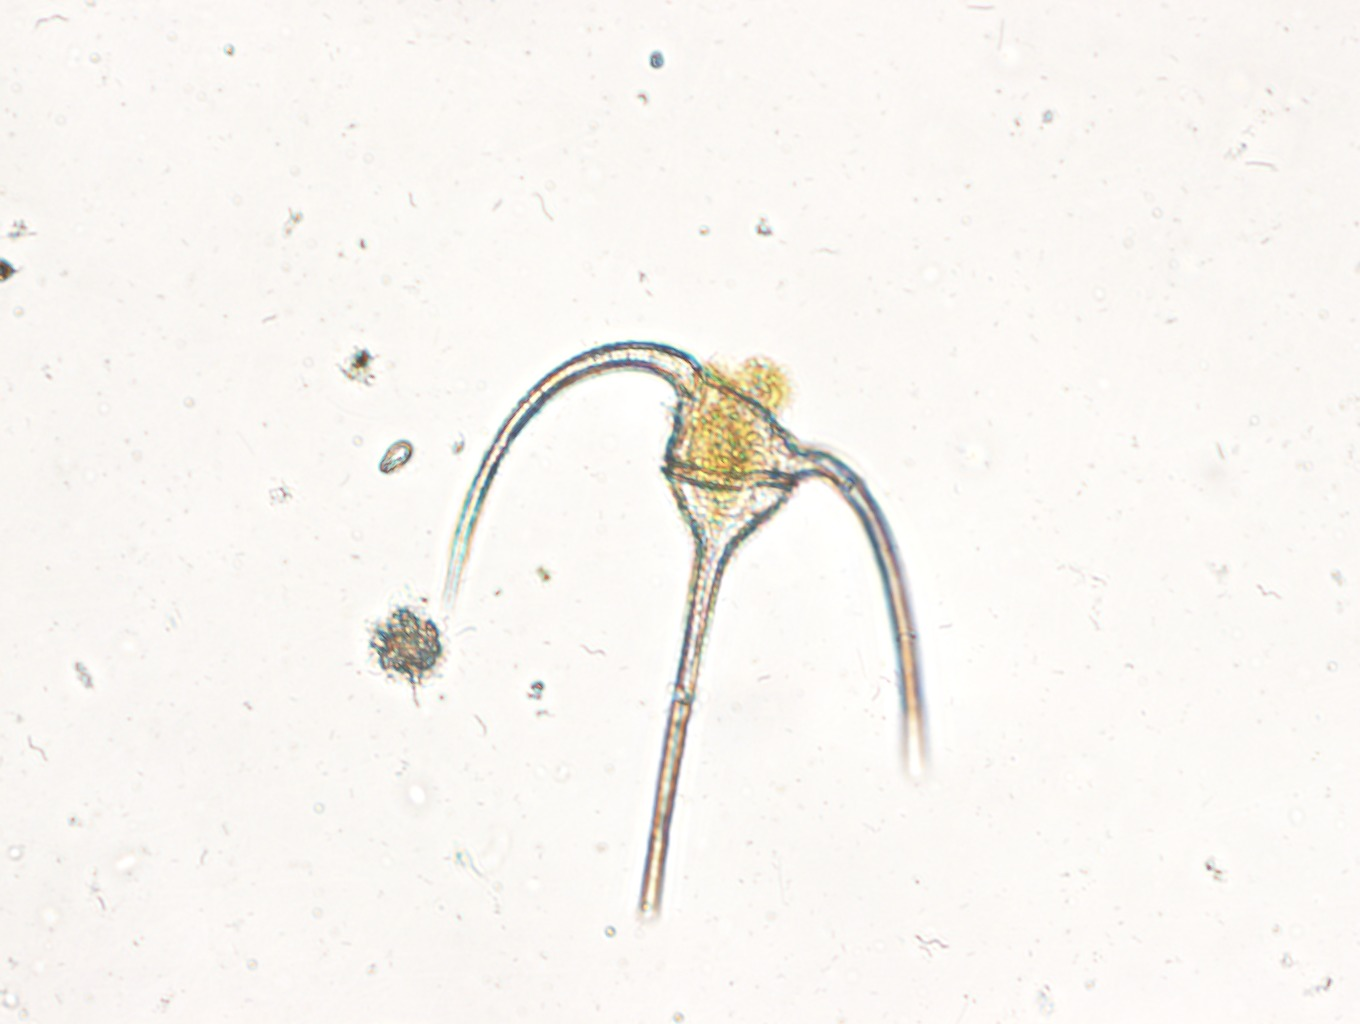ceratium trichoceros: (427, 333, 932, 926)
